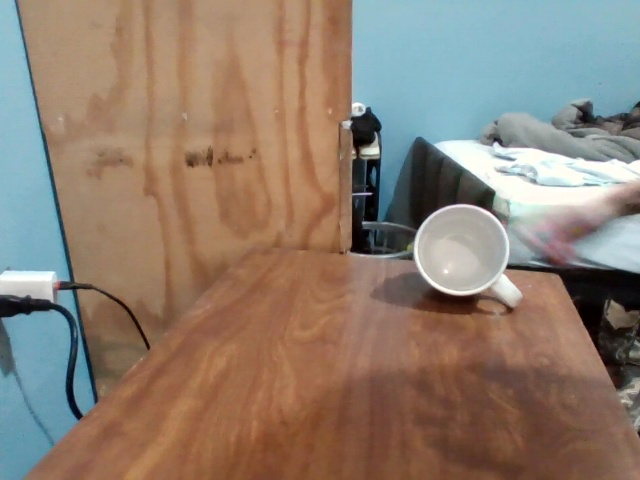taza: (412, 203, 517, 301)
